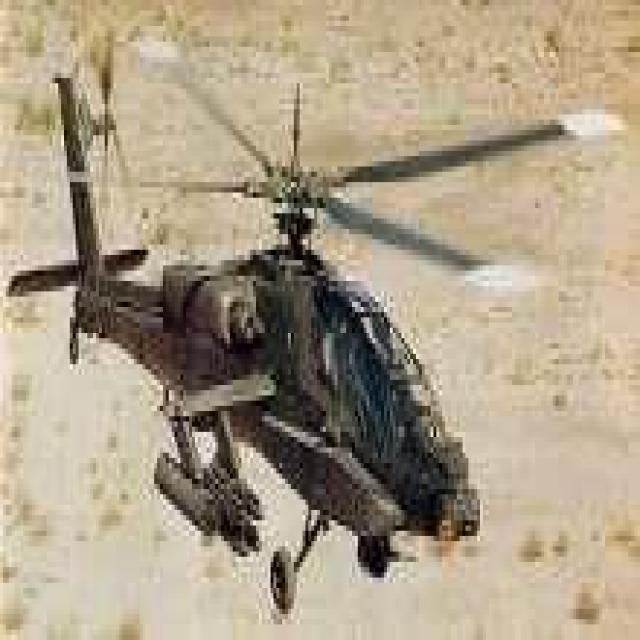MIL_HELO: (4, 41, 572, 616)
